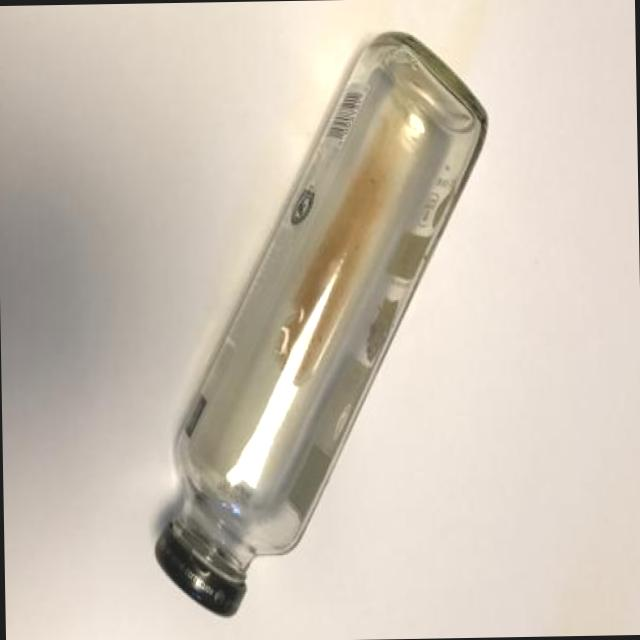chai_thuy_tinh: (173, 31, 488, 583)
nhom: (154, 529, 246, 619)
